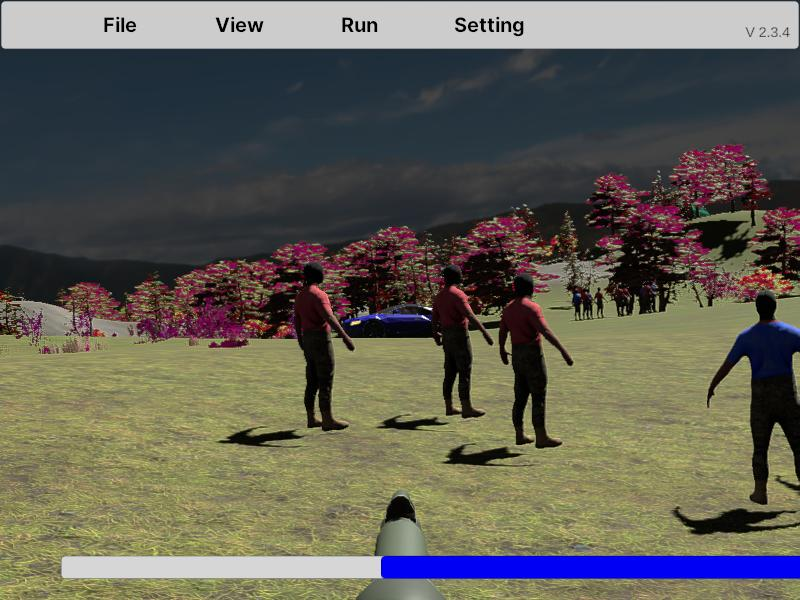Human: (705, 290, 800, 507), (498, 272, 573, 447), (295, 260, 355, 432), (433, 264, 493, 419)
car: (342, 304, 457, 338)
